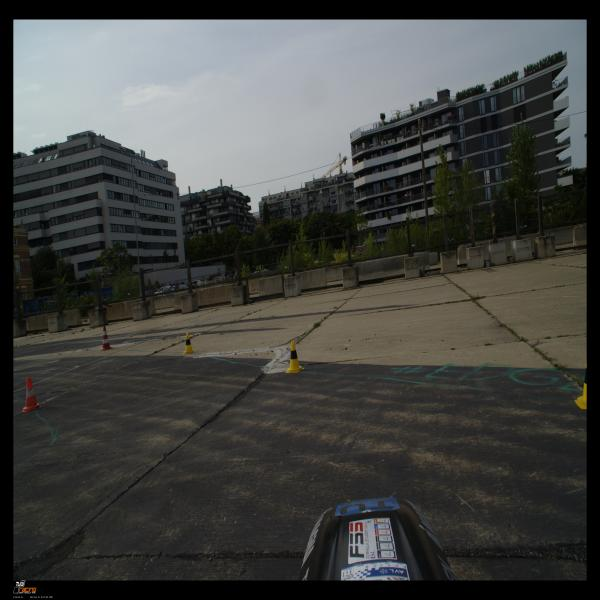large_orange_cone: (100, 325, 113, 351)
orange_cone: (21, 376, 42, 412)
yellow_cone: (574, 352, 587, 412), (284, 340, 305, 373), (182, 332, 196, 355)
